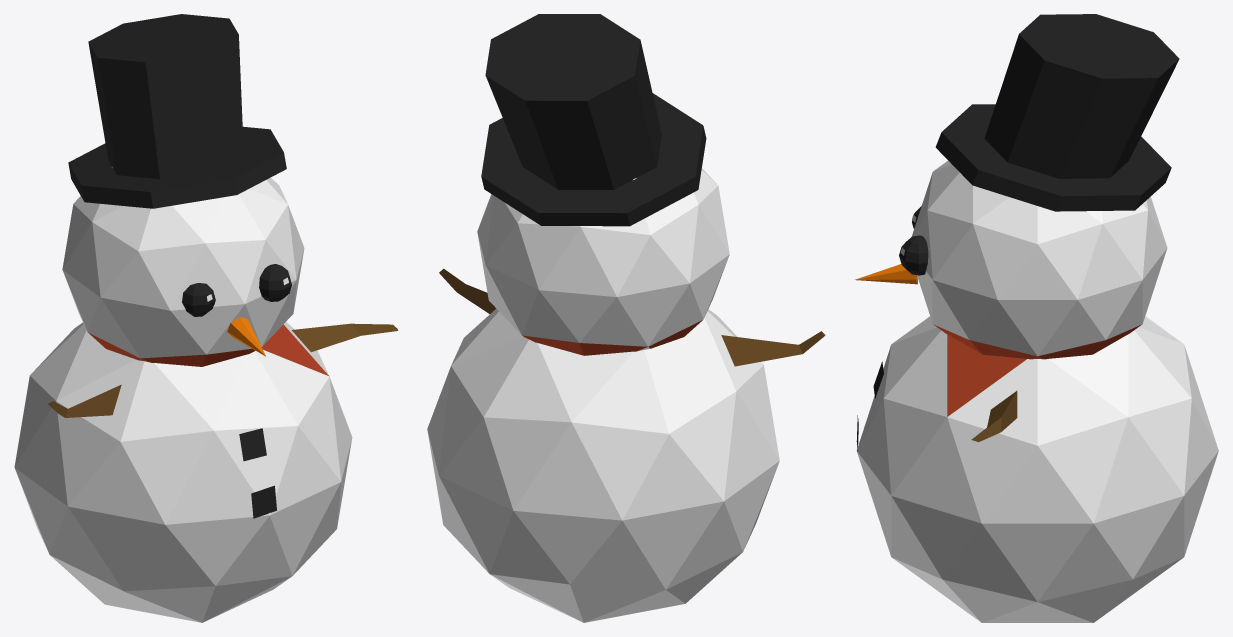
Rendered from snowman.glb.
3 renders of one model, left to right at view 1: azimuth 30°, elevation 25°; view 2: azimuth 150°, elevation 25°; view 3: azimuth 270°, elevation 25°, orthographic. The views are drawn at different scales.
Parts seen in each view (by area): view 1: Icosphere; view 2: Icosphere; view 3: Icosphere.
Boxes of the visible parts, x1=… form: Icosphere: x1=14, y1=14, x2=398, y2=622; Icosphere: x1=427, y1=14, x2=825, y2=622; Icosphere: x1=855, y1=14, x2=1218, y2=622.
Bounding box in the file's own units: 2.4 × 3.58 × 2.01.
Materials: 1 (1 with a texture image).
